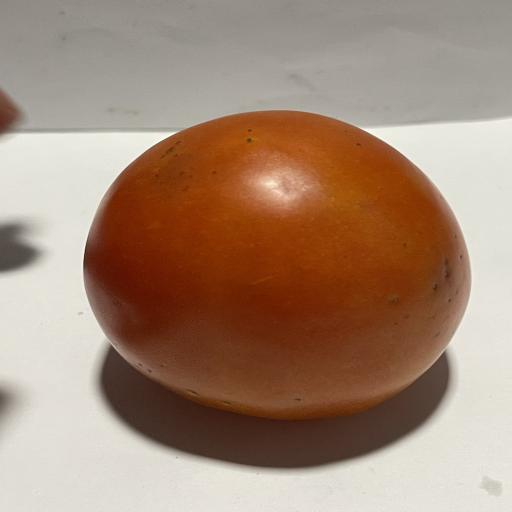unripe: (84, 111, 470, 419)
